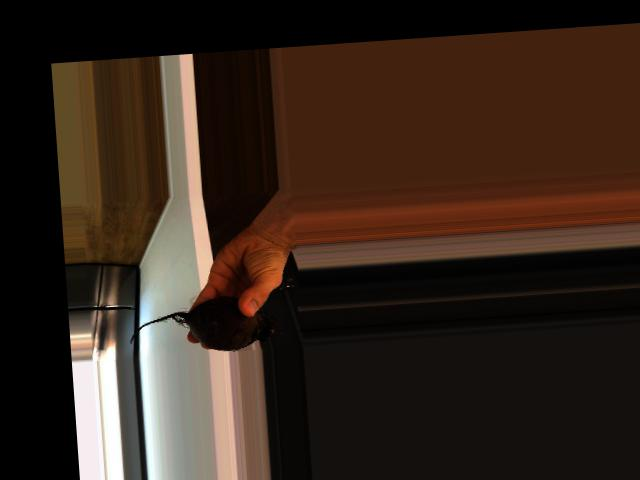beet: (127, 293, 280, 358)
